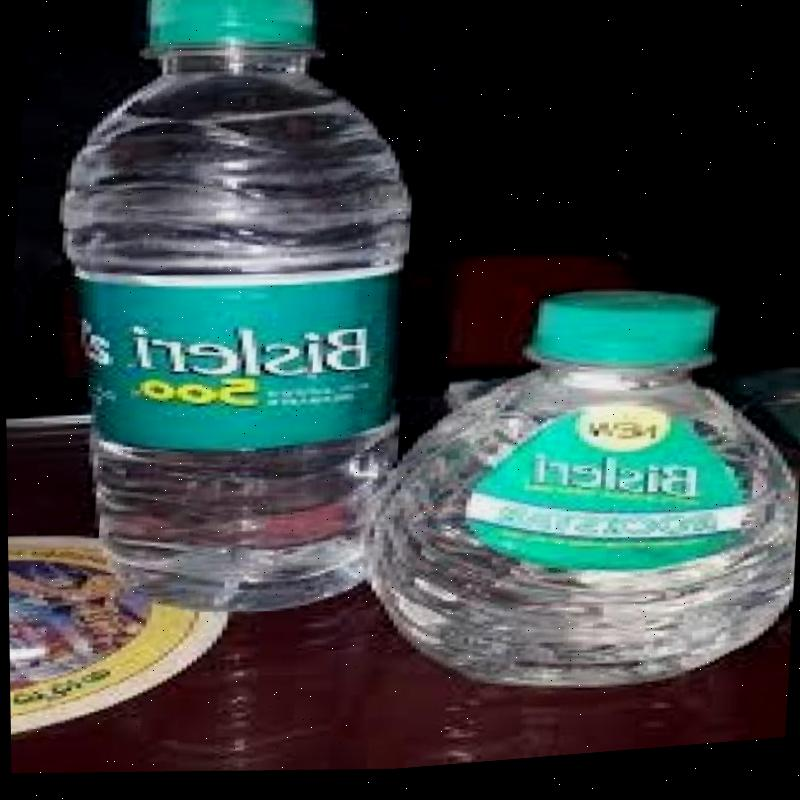botella: (18, 0, 438, 637), (348, 270, 800, 721)
